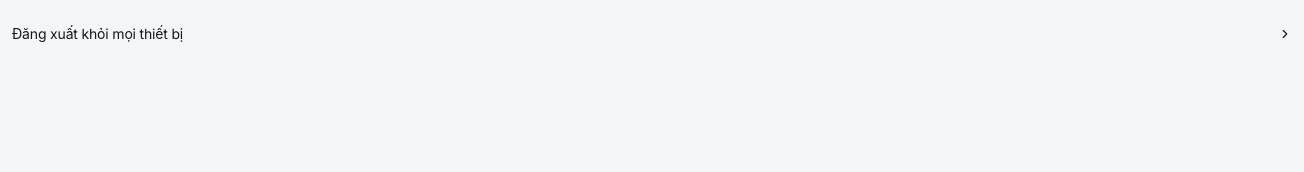
Test case: Cài đặt → Đăng xuất khỏi mọi thiết bị › phải xác nhận trước; huỷ thì không gọi máy chủ
Later steps or results of the test are not shown.
What coordinates should you click on to do the following:
click the button "Đăng xuất khỏi mọi thiết bị"
I would click on:
 (98, 34)
Its box is [12,12,1292,56].
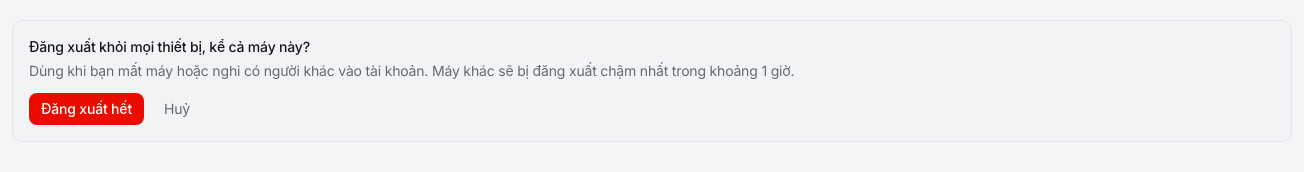
Result: the text "chậm nhất trong khoảng 1 giờ" is shown at [29,62,794,79]
